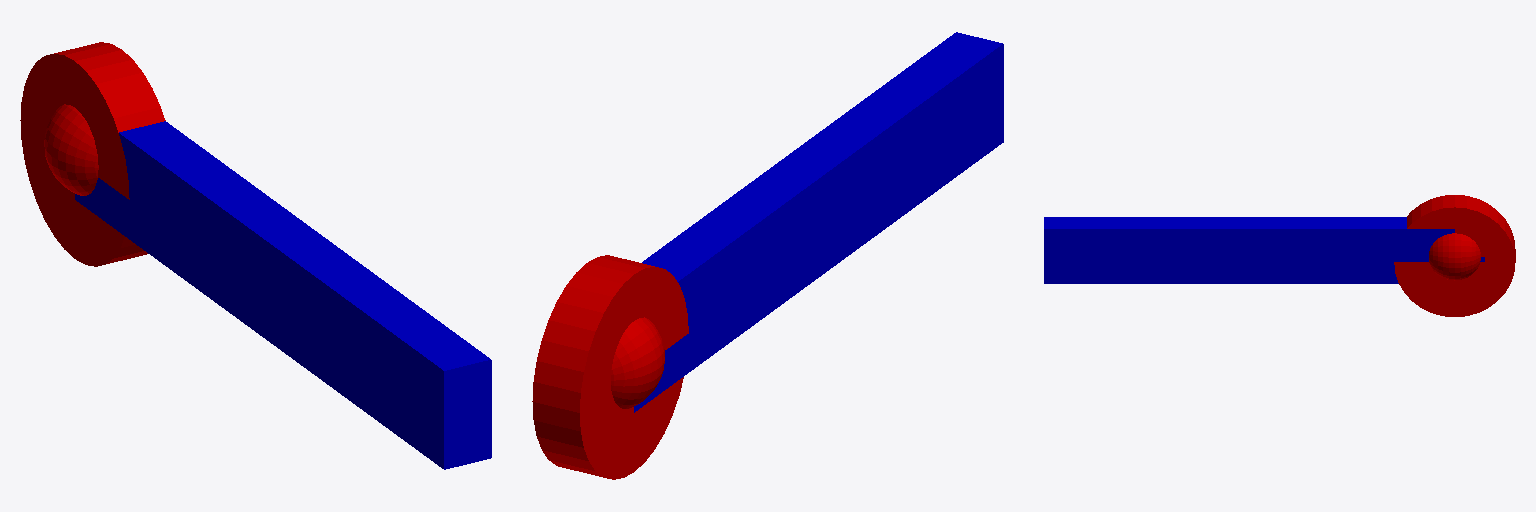
URDF robot description (TwoLinkStruct2051880911):
<?xml version="1.0"?>
<robot  name="TwoLinkStruct2051880911" >
 <material  name="blue" >
  <color  rgba="0 0 0.8 1.0" />
 </material>
 <material  name="red" >
  <color  rgba="0.8 0 0 1.0" />
 </material>
 <link  name="base_link" >
  <visual >
   <origin  rpy="0 1.5707 0"  xyz="0 0 0" />
   <material  name="red" />
   <geometry >
    <cylinder  length="0.05"  radius="0.1" />
   </geometry>
  </visual>
 </link>
 <joint  type="revolute"  name="joint1" >
  <parent  link="base_link" />
  <child  link="link1" />
  <origin  xyz="0 0 0"  rpy="0 0 0" />
  <axis  xyz="1 0 0" />
 </joint>
 <link  name="link1" >
  <inertial >
   <origin  rpy="0 0 0"  xyz="0 0 0.005" />
   <mass  value="0.05277771949768067" />
   <inertia  ixy="0.0"  iyy="2.199071645736695e-05"  izz="1.1435172557830814e-05"  ixz="0.0"  ixx="1.1435172557830814e-05"  iyz="0.0" />
  </inertial>
  <visual >
   <origin  rpy="0 0 0"  xyz="0 0 0.005" />
   <material  name="blue" />
   <geometry >
    <box  size="0.05 0.1 0.01" />
   </geometry>
  </visual>
 </link>
 <joint  type="fixed"  name="joint-joint-1" >
  <parent  link="link1" />
  <child  link="joint-link-1" />
  <origin  xyz="0 0 0.01"  rpy="1.5707 0 0" />
  <axis  xyz="1 0 0" />
 </joint>
 <link  name="joint-link-1" >
  <inertial >
   <origin  rpy="0 0 0"  xyz="0 0 0" />
   <mass  value="3.7664522682243238" />
   <inertia  ixy="0"  iyy="0"  izz="0"  ixz="0"  ixx="0"  iyz="0" />
  </inertial>
  <visual >
   <origin  rpy="0 0 0"  xyz="0 0 0" />
   <material  name="red" />
   <geometry >
    <sphere  radius="0.05" />
   </geometry>
  </visual>
 </link>
 <joint  type="revolute"  name="joint2" >
  <parent  link="link1" />
  <child  link="link2" />
  <origin  xyz="0 0 0.01"  rpy="1.5707 0 0" />
  <axis  xyz="1 0 0" />
 </joint>
 <link  name="link2" >
  <inertial >
   <origin  rpy="0 0 0"  xyz="0 0 0.3382138433041322" />
   <mass  value="2.2123573459440227" />
   <inertia  ixy="0.0"  iyy="2.199071645736695e-05"  izz="0.002023385239969491"  ixz="0.0"  ixx="0.002023385239969491"  iyz="0.0" />
  </inertial>
  <visual >
   <origin  rpy="0 0 0"  xyz="0 0 0.3382138433041322" />
   <material  name="blue" />
   <geometry >
    <box  size="0.05 0.1 0.6764276866082644" />
   </geometry>
  </visual>
 </link>
 <joint  type="fixed"  name="eef_joint" >
  <parent  link="link2" />
  <child  link="eef" />
  <origin  xyz="0 0 0.6764276866082644"  rpy="0 0 0" />
 </joint>
 <link  name="eef" >
  <inertial >
   <origin  rpy="0 0 0"  xyz="0 0 0" />
   <mass  value="1" />
   <inertia  ixy="0"  iyy="0"  izz="0"  ixz="0"  ixx="0"  iyz="0" />
  </inertial>
 </link>
 <transmission  name="motor1" >
  <type  xmltext="SimpleTransmission" >
   SimpleTransmission
  </type>
  <actuator  name="motor1" >
   <mechanicalreduction  xmltext="1" >
    1
   </mechanicalreduction>
  </actuator>
  <joint  name="joint1" />
 </transmission>
 <transmission  name="motor2" >
  <type  xmltext="SimpleTransmission" >
   SimpleTransmission
  </type>
  <actuator  name="motor2" >
   <mechanicalreduction  xmltext="1" >
    1
   </mechanicalreduction>
  </actuator>
  <joint  name="joint2" />
 </transmission>
</robot>

<!-- {'carti': array([-0.1 ,  0.14,  0.85]), 'cartd': array([-0.1 ,  0.32,  1.29]), 'tau_mu': 0.6193618237239548, 'b0': 1.0, 'Km': 5.0, 'k_velocity': 65.79494950242004, 'tau_max_m': 3.690553163784892, 'omega_max_m': 8862.970542412364, 'gear_ratio': 7.9588494525339275, 'Kp': 33.02275692406902, 'Kd': 91.6615116819832, 'm_m': 3.7664522682243238, 'l1': 0.01, 'l2': 0.6764276866082644, 'k1': 3935.450793733592, 'k2': 1000.0, 'k3': 379000000.0}-->

--- Facts derived from the render (not from the file) ---
3 views of the same robot in one strip: view 1: azimuth 30°, elevation 25°; view 2: azimuth 150°, elevation 25°; view 3: azimuth 270°, elevation 25° (orthographic).
Model TwoLinkStruct2051880911 with 5 links and 4 joints (2 revolute, 2 fixed), rooted at base_link, posed all joints at 0.
Links seen in each view (by area): view 1: link2, base_link, joint-link-1; view 2: link2, base_link, joint-link-1; view 3: link2, base_link, joint-link-1.
Boxes of the visible links, box(x1,y1,x2,y2) form: link2: box(75, 121, 491, 469); base_link: box(20, 42, 165, 266); joint-link-1: box(44, 104, 98, 195); link2: box(634, 32, 1003, 412); base_link: box(532, 255, 688, 479); joint-link-1: box(611, 317, 664, 408); link2: box(1044, 217, 1454, 283); base_link: box(1394, 195, 1515, 316); joint-link-1: box(1429, 233, 1480, 280).
Bounding box of the posed robot: 0.1 × 0.7764 × 0.2 m (x, y, z).
Geometry: primitives only (box / cylinder / sphere), no mesh files.
